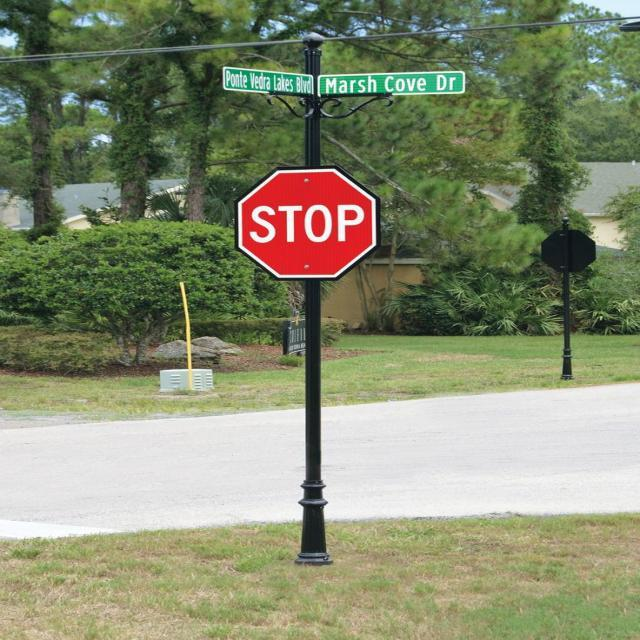stop: (234, 163, 379, 281)
